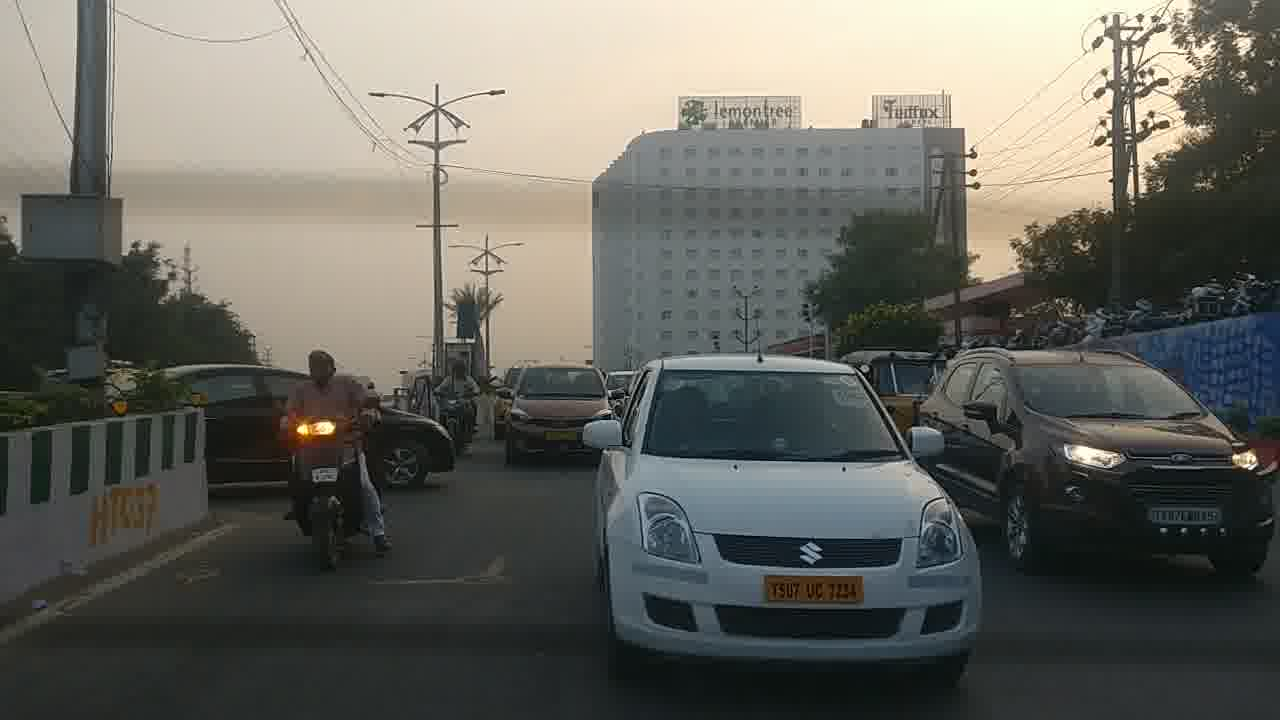swift desire: (591, 369, 975, 667)
